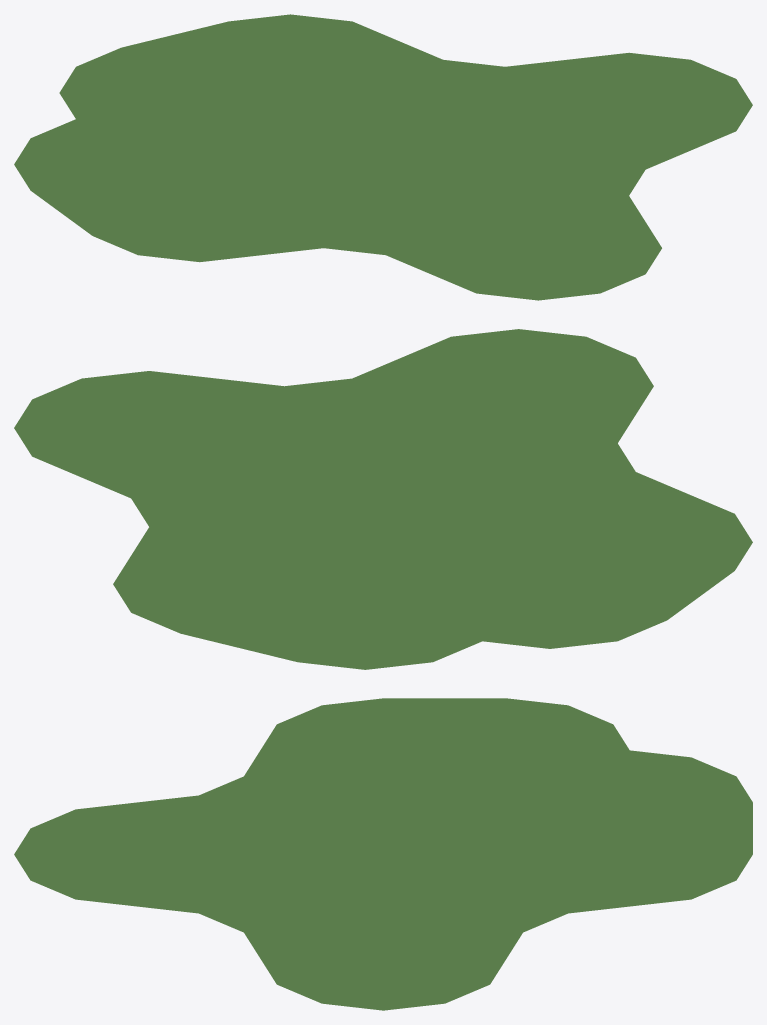
File: patch-grass.glb
3 views of the same model, one above another, from view 1: azimuth 30°, elevation 25°; view 2: azimuth 150°, elevation 25°; view 3: azimuth 270°, elevation 25° (orthographic). The views are drawn at different scales.
Size of the model in its own units: 1.2 by 0 by 1.2.
